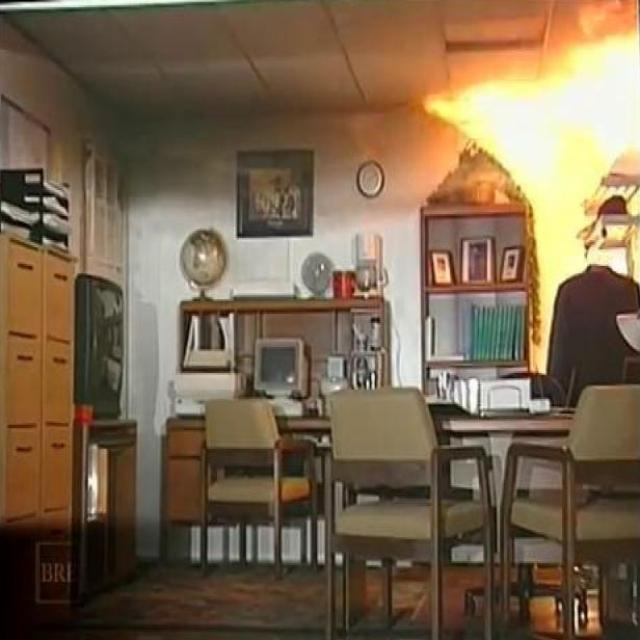smoke: (421, 4, 640, 234)
